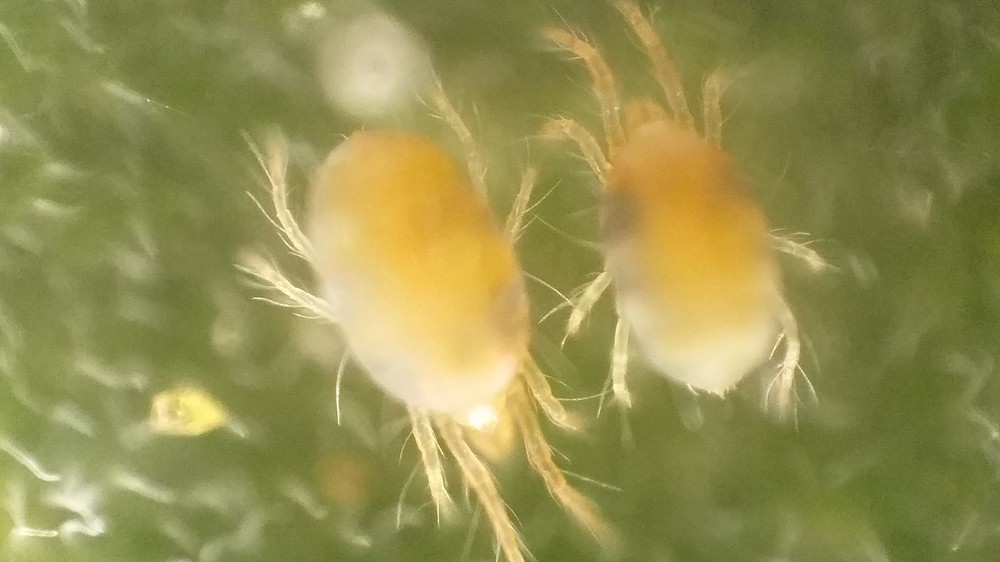Aracnido Rojo: (234, 79, 625, 558), (541, 13, 857, 447)
